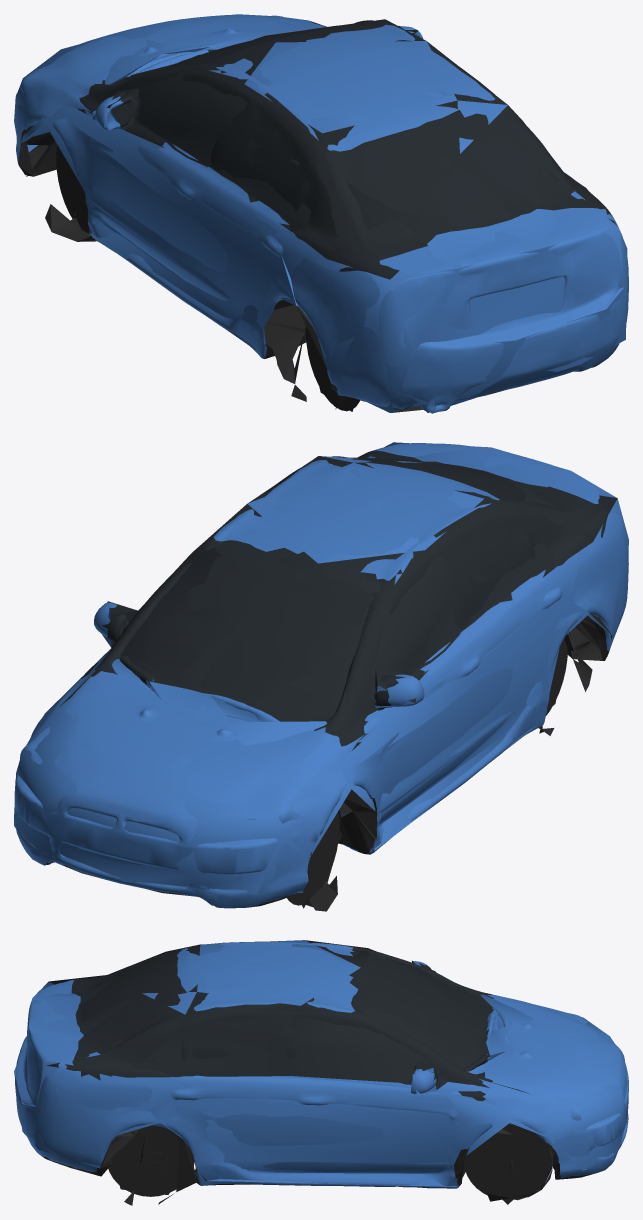
The model's file is mitsubishi-lancer.glb.
3 renders of one model, top to bottom at view 1: azimuth 30°, elevation 25°; view 2: azimuth 150°, elevation 25°; view 3: azimuth 270°, elevation 25°, orthographic. The views are drawn at different scales.
Visible parts, largest first — view 1: body, far; view 2: body, far; view 3: body, far.
Boxes of the visible parts, left/top/right/bottom form: body: left=15, top=15, right=628, bottom=413; far: left=14, top=14, right=627, bottom=412; body: left=14, top=443, right=628, bottom=911; far: left=14, top=442, right=628, bottom=908; body: left=15, top=941, right=628, bottom=1205; far: left=14, top=940, right=628, bottom=1204.
Bounding box in the file's own units: 2.14 × 1.62 × 4.62.
